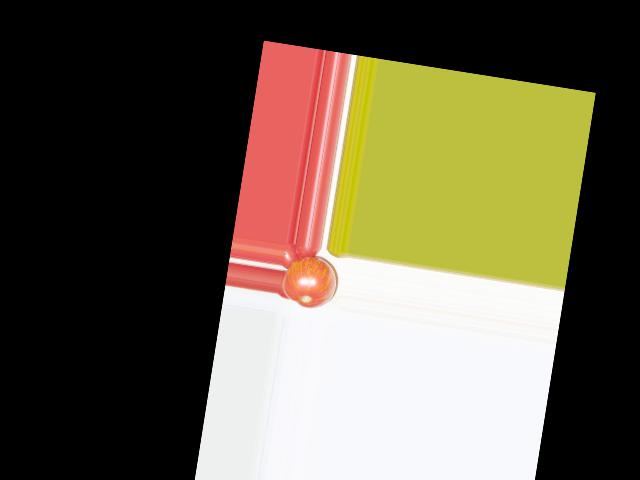tomato: (279, 252, 340, 312)
